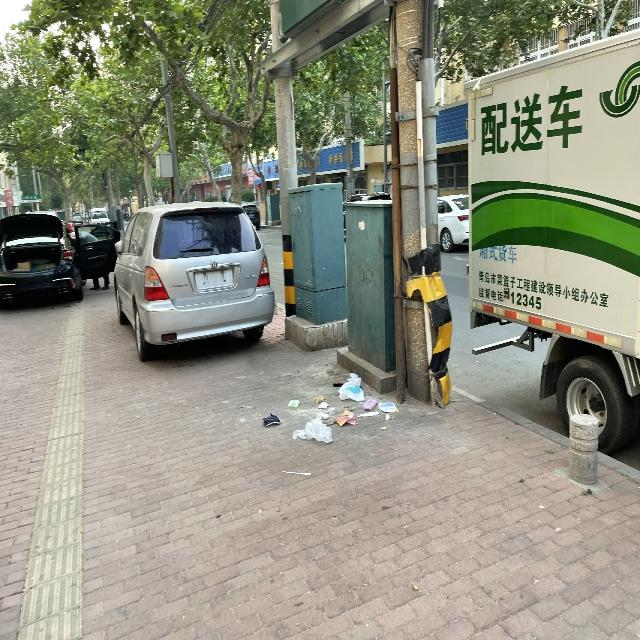garbage: (262, 372, 398, 475)
